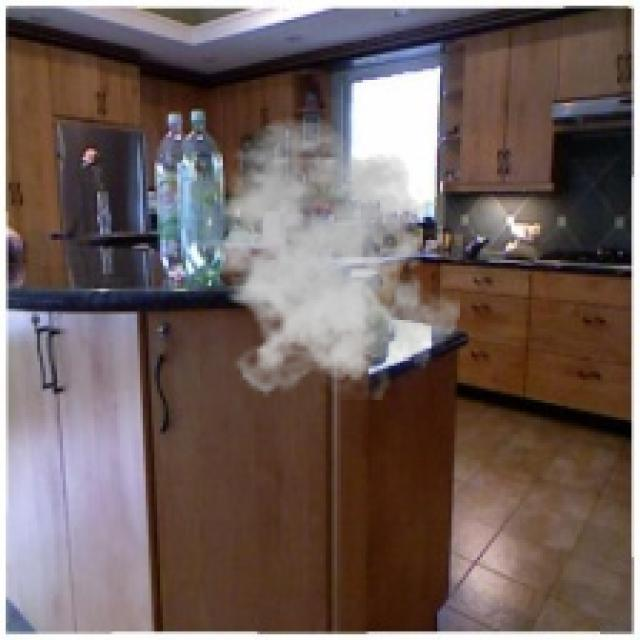smoke: (189, 117, 460, 400)
